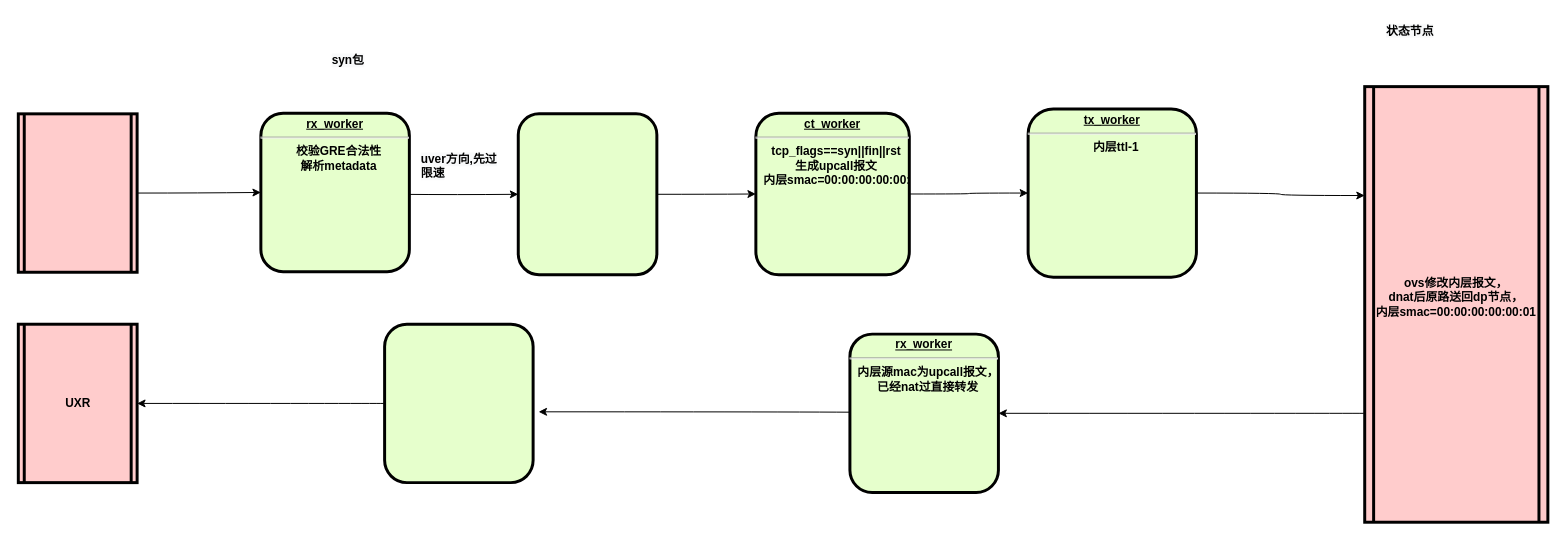
This 1566x541 diagram has some shape labels left out. The box of each missing label's shape, as (x1, y1, x2, y2) in pixels:
meter_worker 入向EIP限速: (516, 112, 658, 276)
tx_worker 内层ttl-1， 根据nat后的五元组hash， 选择uxr节点: (383, 322, 534, 484)
UVER: (16, 112, 138, 273)
